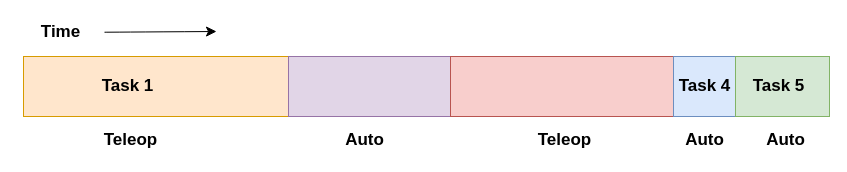
The diagram is 847 pixels wide and 172 high, and some of its shapes have lost their labels. The centre of each missing label's shape, as x and y in pixels:
"Task 2" belongs at [369,86].
"Task 3" belongs at [562,86].
